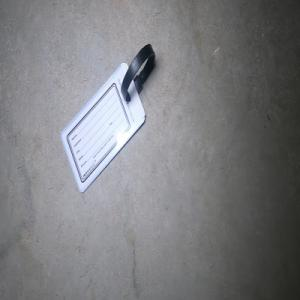LuggageTag: (59, 41, 156, 195)
